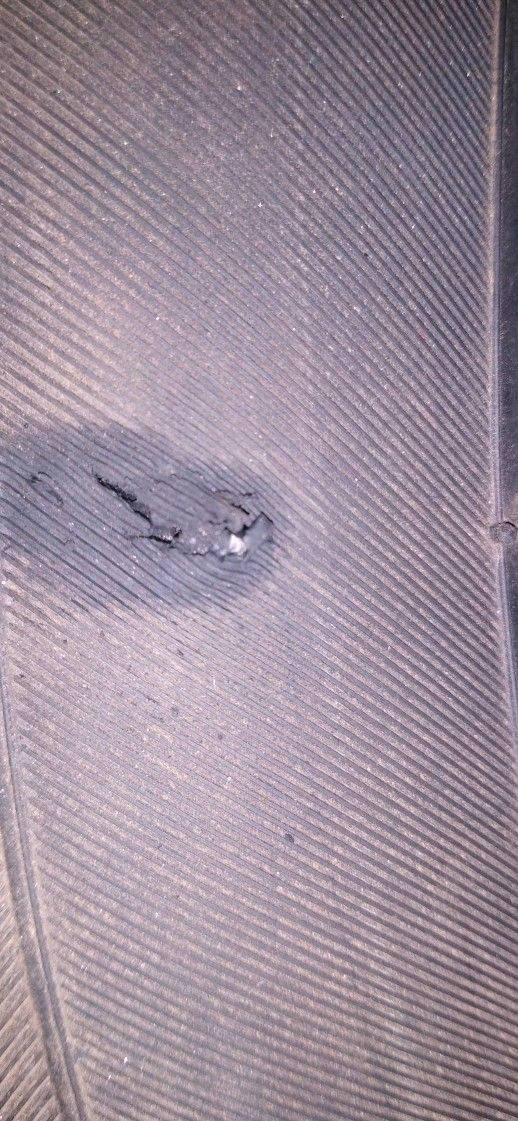cut: (88, 472, 268, 564)
